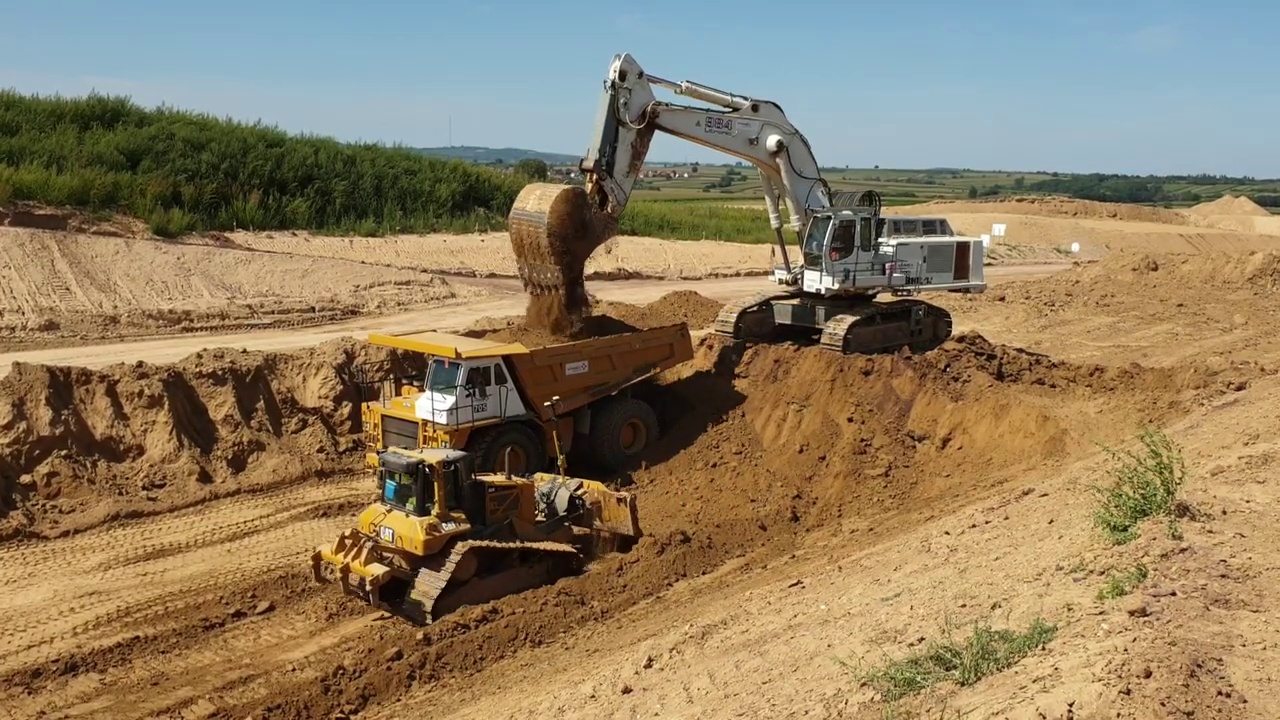bulldozer: (312, 393, 646, 628)
excavator: (505, 47, 992, 359)
truck: (336, 309, 702, 506)
